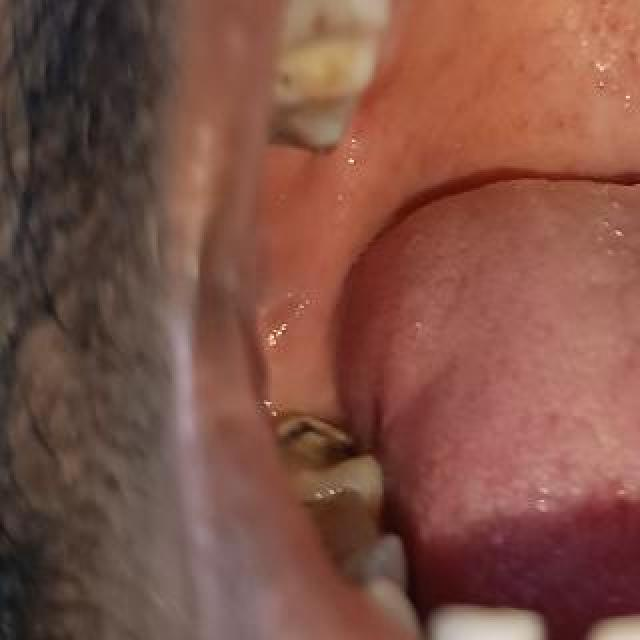cavities: (272, 399, 344, 485)
